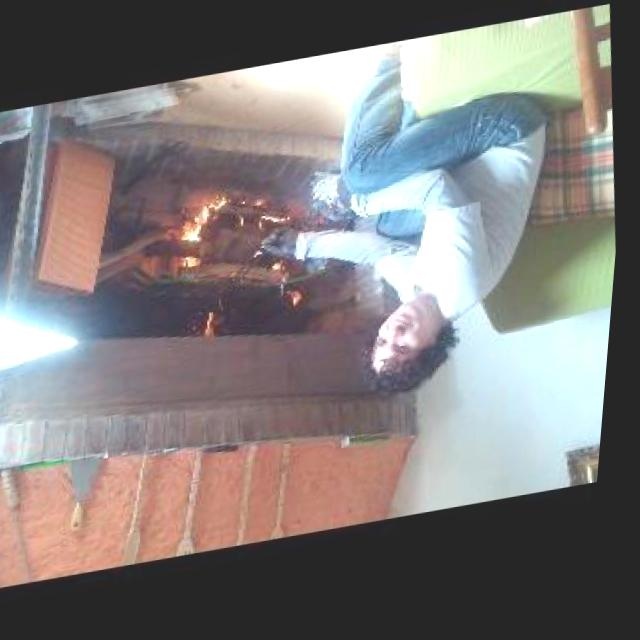helmet: (159, 202, 239, 276)
